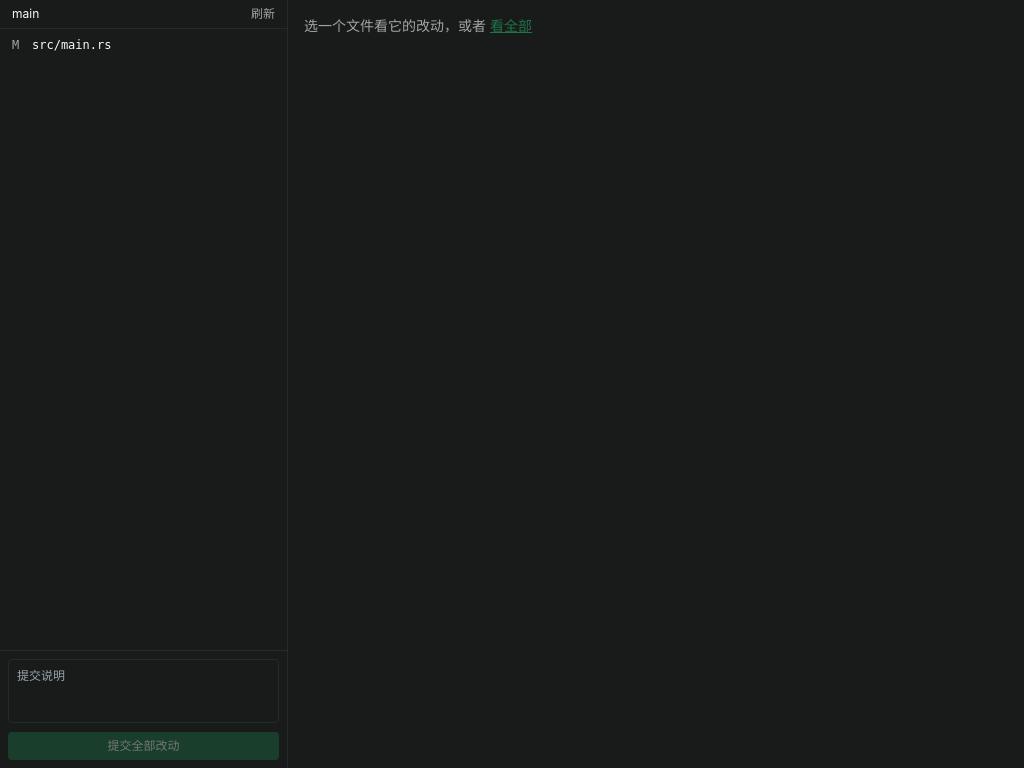
Test: the changes panel › shows a file's diff when it is picked
Click the text "src/main.rs". click: (72, 45)
box: [32,37,112,53]
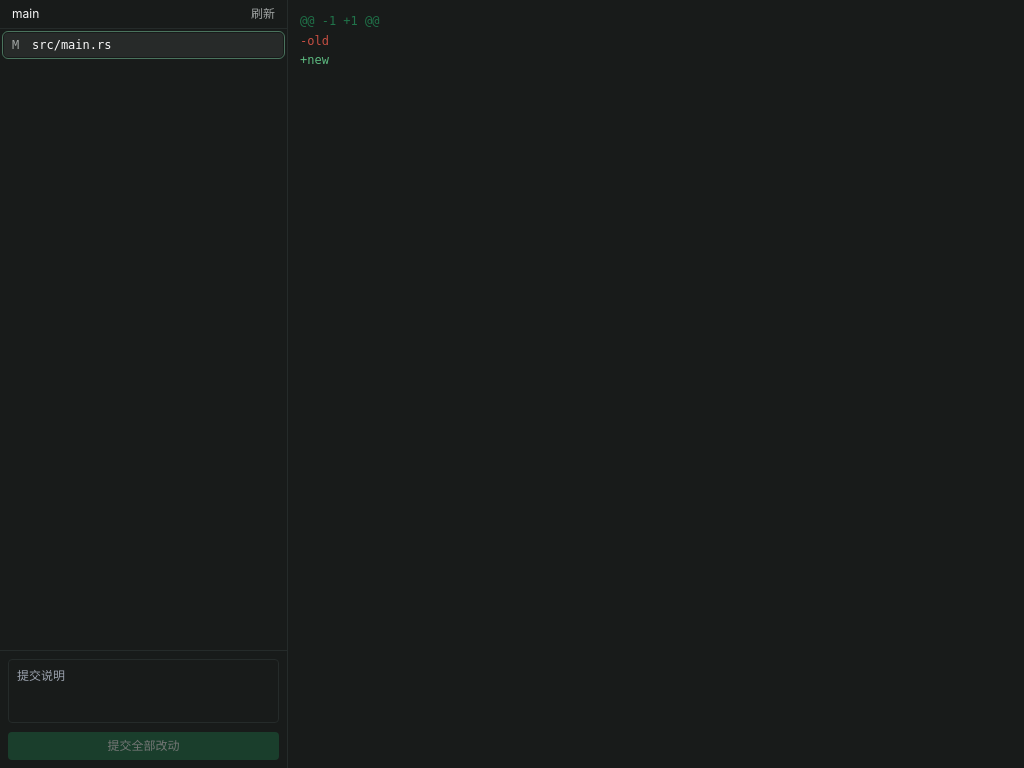
Expected: the element with test id "diff" shows "-old", [300,34,329,48]
Expected: the element with test id "diff" shows "+new", [300,53,329,67]
